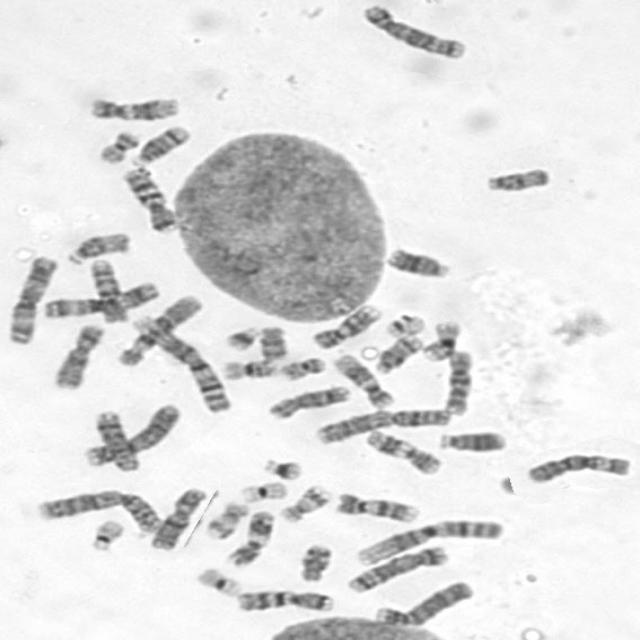A1: (128, 314, 234, 414), (352, 516, 506, 566)
A2: (33, 486, 165, 533), (310, 405, 452, 445)
A3: (3, 252, 60, 346), (40, 278, 162, 320)
B4: (79, 401, 183, 468), (370, 577, 478, 628)
B5: (358, 2, 468, 60), (342, 543, 449, 595)
C10: (86, 255, 130, 324), (439, 346, 476, 417)
C11: (362, 426, 445, 476), (222, 507, 276, 568)
C12: (329, 351, 395, 409), (86, 94, 182, 122)
C6: (112, 292, 205, 368), (523, 450, 632, 484)
C7: (118, 165, 178, 235), (232, 587, 336, 614)
C8: (263, 382, 351, 420), (92, 408, 141, 472)
C9: (308, 302, 384, 350), (331, 489, 421, 525)
D13: (382, 243, 452, 280), (435, 428, 508, 453)
D14: (126, 122, 192, 168), (369, 332, 425, 375)
D15: (62, 229, 132, 266), (481, 163, 553, 194)
E16: (418, 316, 464, 362), (217, 356, 279, 382)
E17: (275, 482, 333, 525), (201, 497, 252, 541)
E18: (295, 540, 335, 583), (255, 323, 289, 362)
F19: (193, 564, 244, 598), (236, 478, 289, 502)
F20: (94, 127, 141, 165), (276, 354, 328, 382)
G21: (257, 455, 306, 481), (221, 322, 261, 352)
G22: (86, 516, 125, 552), (381, 312, 428, 338)
X: (48, 321, 108, 390), (146, 485, 206, 551)
